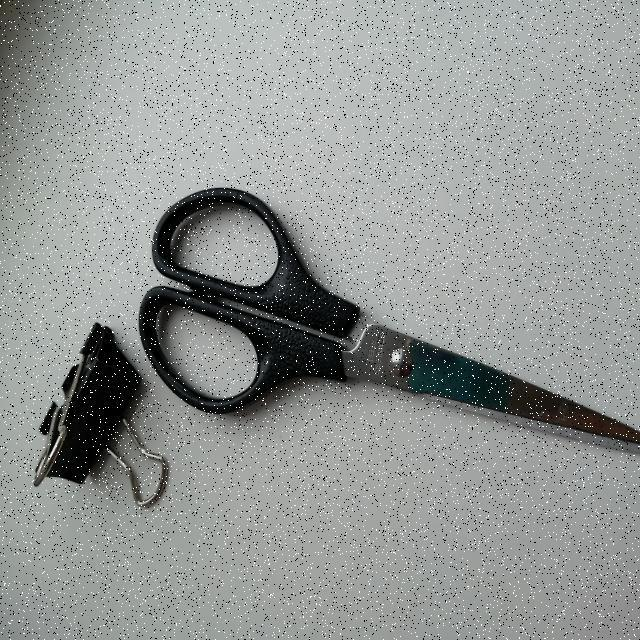scissors: (121, 159, 640, 492)
